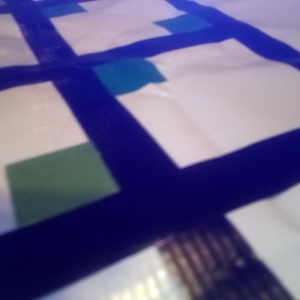top_right: (1, 57, 96, 90)
